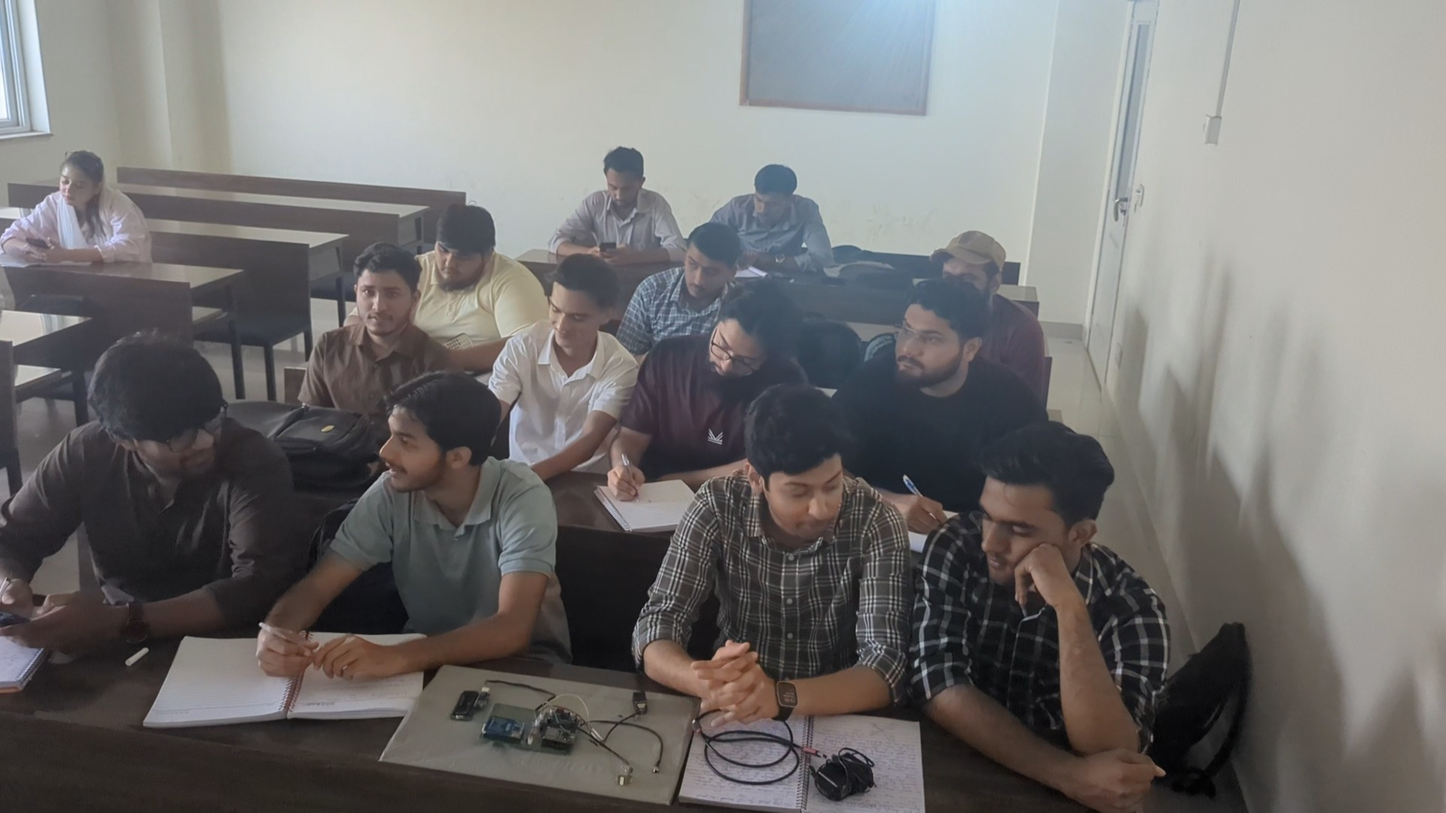look_forward: (357, 405, 545, 618), (286, 222, 467, 388), (412, 198, 544, 337), (662, 226, 749, 330)
read: (835, 435, 1164, 804), (729, 401, 885, 798), (522, 260, 614, 465)
turn_head: (90, 340, 287, 591)
using_device: (15, 127, 176, 281), (555, 137, 677, 267)
write: (601, 292, 778, 519), (863, 273, 994, 545), (737, 159, 846, 279)
